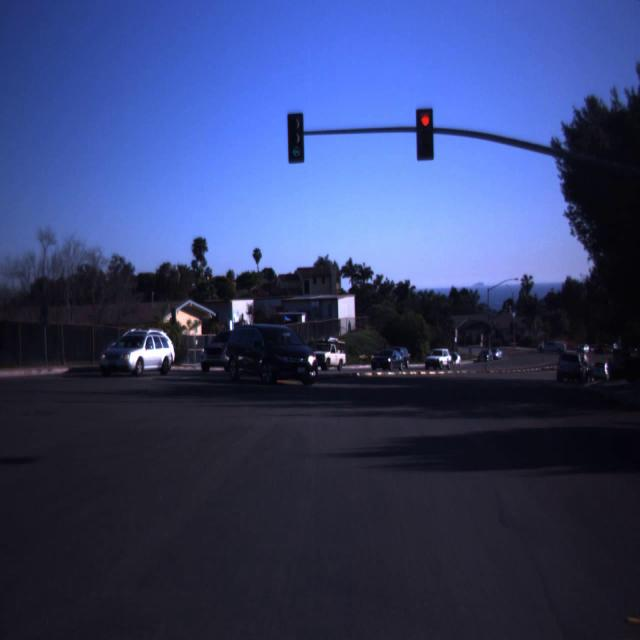go left: (292, 146, 300, 156)
go left traffic light: (286, 112, 306, 162)
stop: (422, 118, 428, 126)
stop traffic light: (415, 114, 435, 150)
